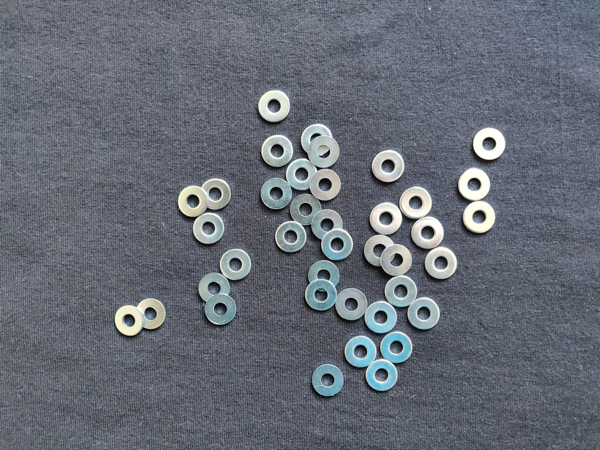circle: (461, 201, 498, 237), (456, 166, 493, 202), (399, 185, 436, 220), (471, 126, 506, 163), (175, 183, 209, 221), (191, 212, 226, 248), (334, 287, 370, 322), (256, 90, 293, 124), (259, 134, 296, 168), (406, 297, 444, 330), (196, 271, 231, 306), (304, 279, 339, 314), (423, 245, 458, 280), (309, 364, 345, 398), (364, 358, 400, 392), (362, 301, 399, 334), (310, 209, 345, 243), (371, 148, 405, 183), (364, 233, 398, 268), (290, 192, 323, 228), (380, 244, 414, 278), (203, 294, 238, 327), (275, 220, 308, 255), (259, 178, 294, 211), (308, 135, 341, 170), (384, 276, 421, 307), (218, 249, 252, 282), (199, 178, 232, 212), (284, 158, 318, 191), (379, 333, 414, 365), (371, 202, 403, 237), (411, 217, 446, 249), (133, 298, 166, 331), (301, 122, 333, 156), (308, 260, 342, 292), (344, 337, 378, 369), (321, 228, 354, 260), (310, 169, 341, 201), (115, 305, 145, 337)
